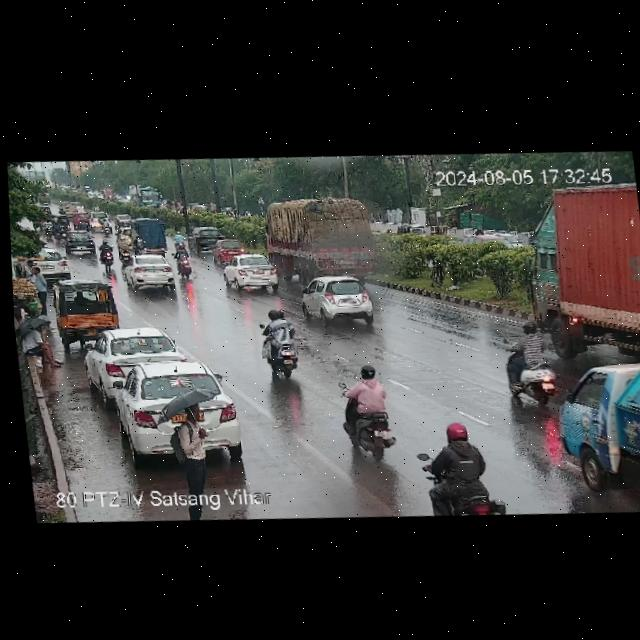bus: (129, 183, 161, 208)
car: (109, 356, 242, 452), (85, 322, 183, 391), (52, 277, 123, 345), (300, 269, 382, 326), (218, 250, 282, 296), (121, 251, 182, 294), (131, 217, 169, 255), (29, 246, 72, 279), (61, 229, 99, 257), (211, 237, 246, 266), (189, 225, 218, 252), (395, 221, 427, 239), (112, 211, 131, 225), (89, 211, 102, 230), (56, 213, 70, 229), (70, 212, 81, 226)
motorcycle: (410, 417, 506, 520), (331, 357, 404, 463), (500, 318, 557, 406), (253, 306, 305, 383), (173, 241, 192, 280), (99, 238, 116, 271), (118, 235, 132, 265), (172, 231, 188, 253), (134, 233, 145, 254), (99, 216, 109, 237), (100, 216, 111, 235), (52, 219, 61, 240), (43, 218, 52, 237), (80, 218, 91, 232)
person: (176, 398, 211, 495), (20, 320, 67, 374), (30, 265, 49, 316), (23, 258, 33, 278)
truck: (517, 177, 640, 366), (549, 349, 640, 498), (261, 187, 389, 290)
